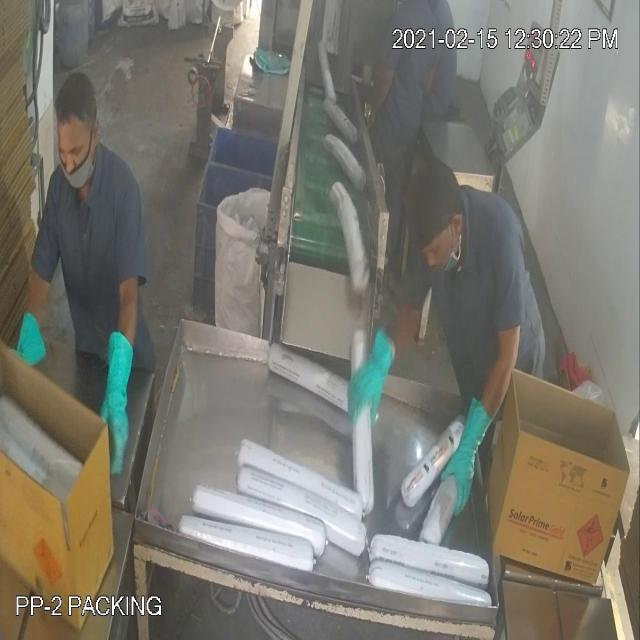gloves: (430, 378, 492, 528), (337, 314, 399, 434), (98, 315, 142, 478)
no-gloves: (361, 38, 404, 137)
